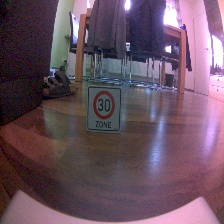dreisiger_zone: (86, 85, 123, 134)
